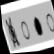correct: (29, 10, 45, 38)
no answer: (43, 10, 54, 35)
not correct: (3, 14, 21, 51)
